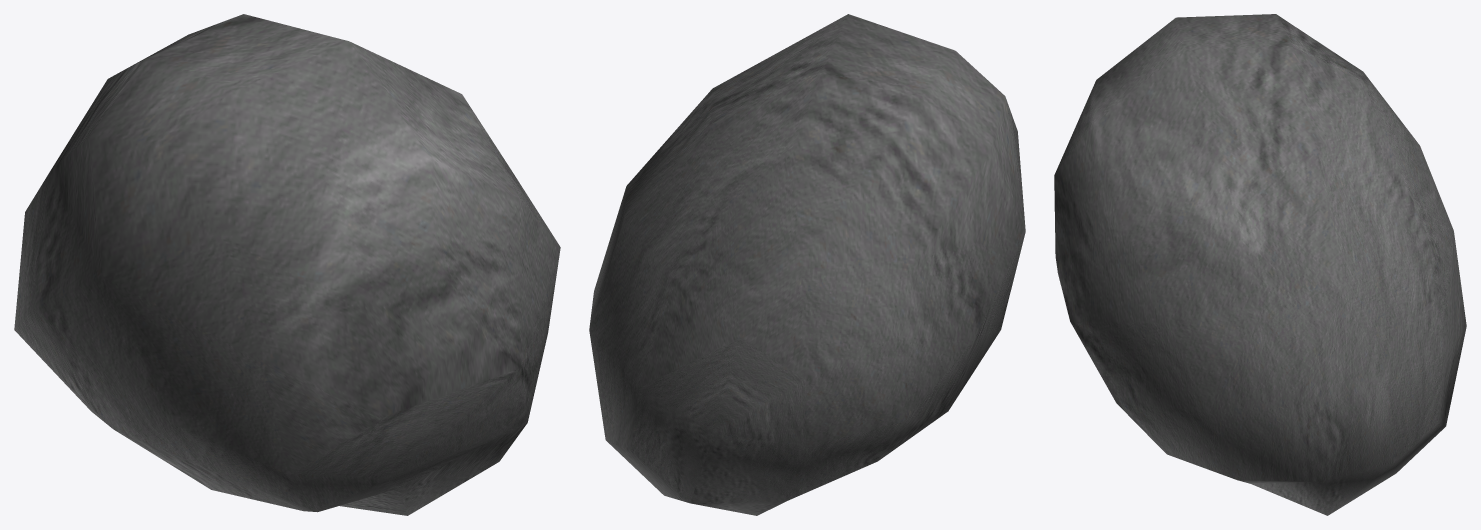
Rendered from Stone6Shape.dae.
3 views of the same model, side by side, from view 1: azimuth 30°, elevation 25°; view 2: azimuth 150°, elevation 25°; view 3: azimuth 270°, elevation 25° (orthographic). The views are drawn at different scales.
Parts seen in each view (by area): view 1: Stone6; view 2: Stone6; view 3: Stone6.
Part boxes in pixels (left/top/right/bottom): Stone6: left=14, top=14, right=560, bottom=515; Stone6: left=589, top=14, right=1025, bottom=515; Stone6: left=1054, top=14, right=1466, bottom=515.
Bounding box in the file's own units: 8.7 × 9.52 × 8.48.
